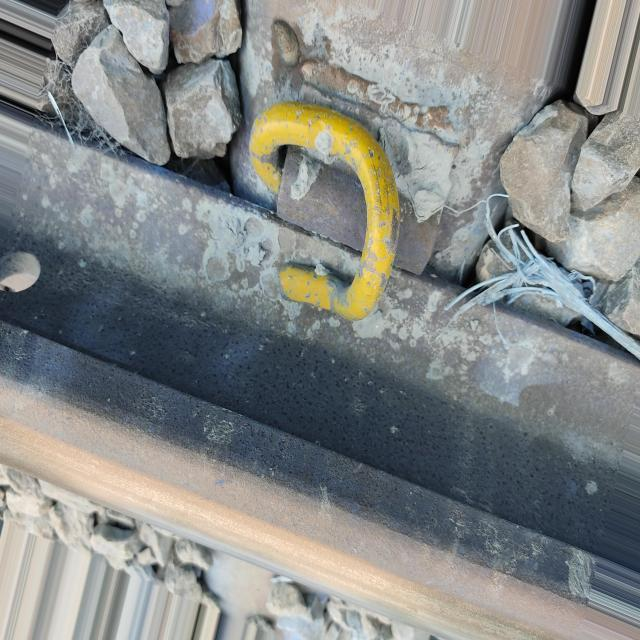Good Fasteners: (249, 75, 459, 320)
